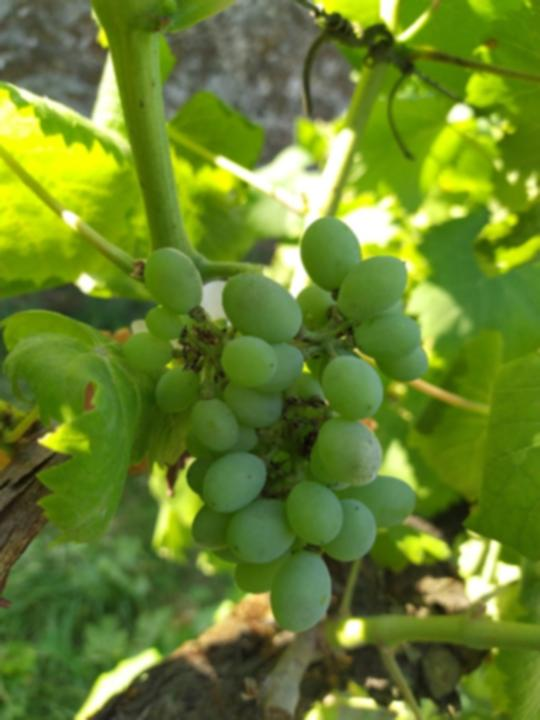grape: (118, 209, 434, 637)
